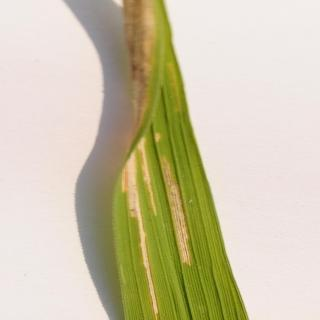Hawar-Daun: (113, 141, 164, 301), (118, 4, 162, 129), (166, 144, 191, 296)
